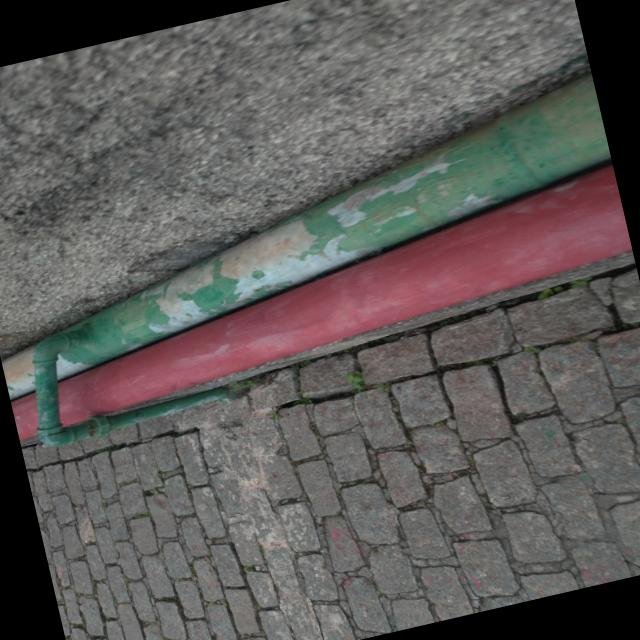gas: (1, 71, 606, 397), (10, 164, 632, 435), (34, 330, 228, 449)
